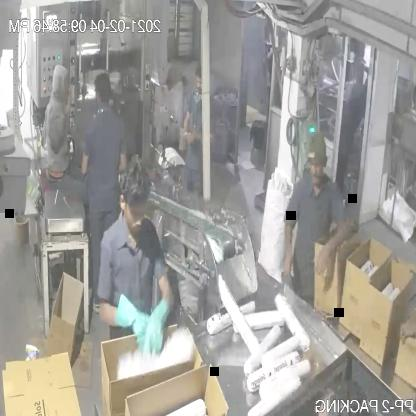glove: (108, 290, 152, 360), (146, 280, 172, 360)
no_glove: (312, 211, 352, 286), (276, 208, 301, 290), (398, 307, 416, 359)
